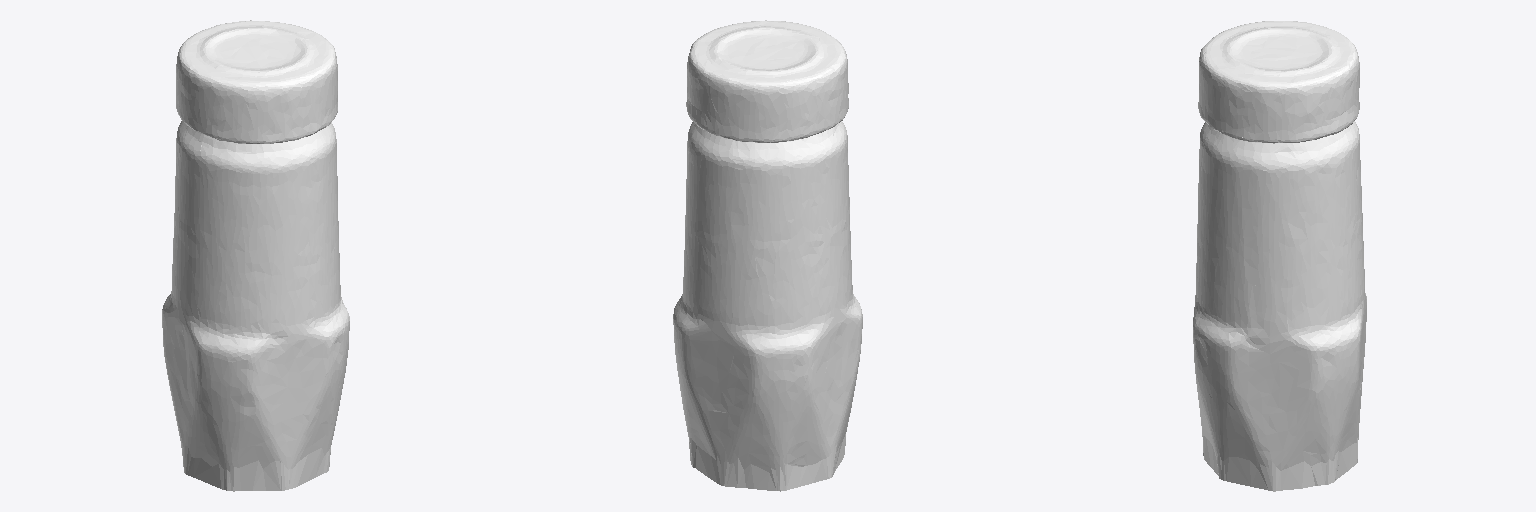
The robot description file, URDF, robot "45_pepper_powder_0":
<?xml version='1.0' encoding='utf-8'?>
<robot name="45_pepper_powder_0">
        <link name="link_0">
            <visual>
                <origin xyz="0.0 0.0 0.0" rpy="0.0 0.0 0.0" />
                <geometry>
                    <mesh filename="textured_objs/textured.obj" scale="1 1 1.0" />
                </geometry>
                <material name="white">
                    <color rgba="1 1 1 1" />
                </material>
            </visual>
            <collision>
                <origin xyz="0.0 0.0 0.0" rpy="0.0 0.0 0.0" />
                <geometry>
                    <mesh filename="textured_objs/textured.obj" scale="1 1 1.0" />
                </geometry>
            </collision>
            <inertial>
                <mass value="0.1" />
                <inertia ixx="0.0001" ixy="0.0" ixz="0.0" iyy="0.0001" iyz="0.0" izz="0.0001" />
            </inertial>
        </link>
    </robot>

--- Render facts (derived) ---
3 views of the same robot in one strip: view 1: azimuth 30°, elevation 25°; view 2: azimuth 150°, elevation 25°; view 3: azimuth 270°, elevation 25° (orthographic).
Model 45_pepper_powder_0 with 1 links and 0 joints (none), rooted at link_0, posed every joint at zero.
Visible links, largest first — view 1: link_0; view 2: link_0; view 3: link_0.
Link boxes in pixels (left/top/right/bottom): link_0: left=162, top=20, right=349, bottom=491; link_0: left=673, top=20, right=862, bottom=491; link_0: left=1193, top=21, right=1366, bottom=491.
Size in the robot's own frame: 0.0428 by 0.0428 by 0.1109 metres.
Meshes: 1 distinct files referenced, 1 mesh visuals loaded (1 OBJ).